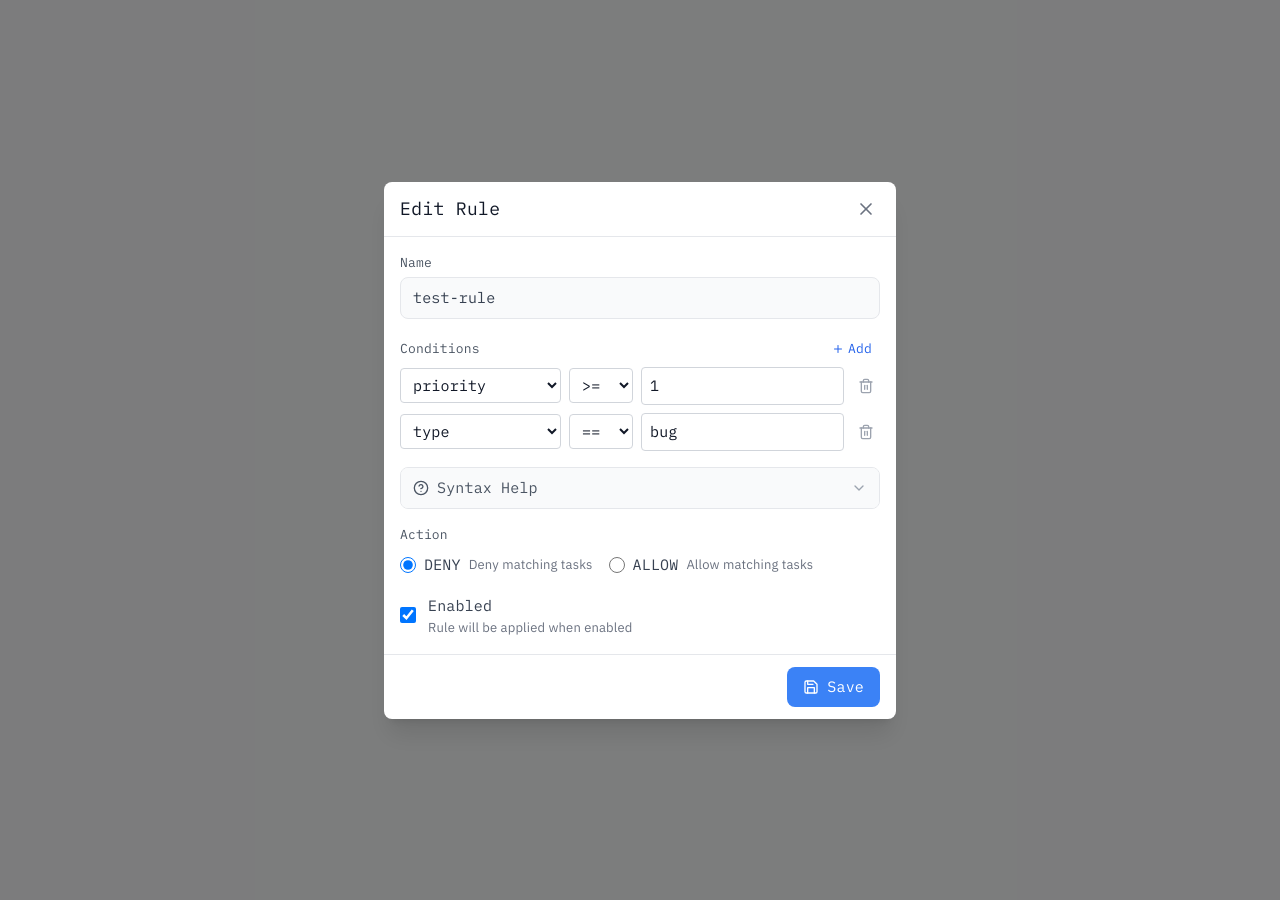
Test case: EditRuleModal › condition add/remove › removes a condition row when clicking remove (with multiple conditions)
This screenshot has width=1280, height=900.
Expected: the number of fields with placeholder "value" is 2, [641, 366, 844, 404]; [641, 412, 844, 450]
Click the first remove button (there should be trash icons)
Click the 1st button titled "remove condition": (866, 386) [852, 372, 880, 400]
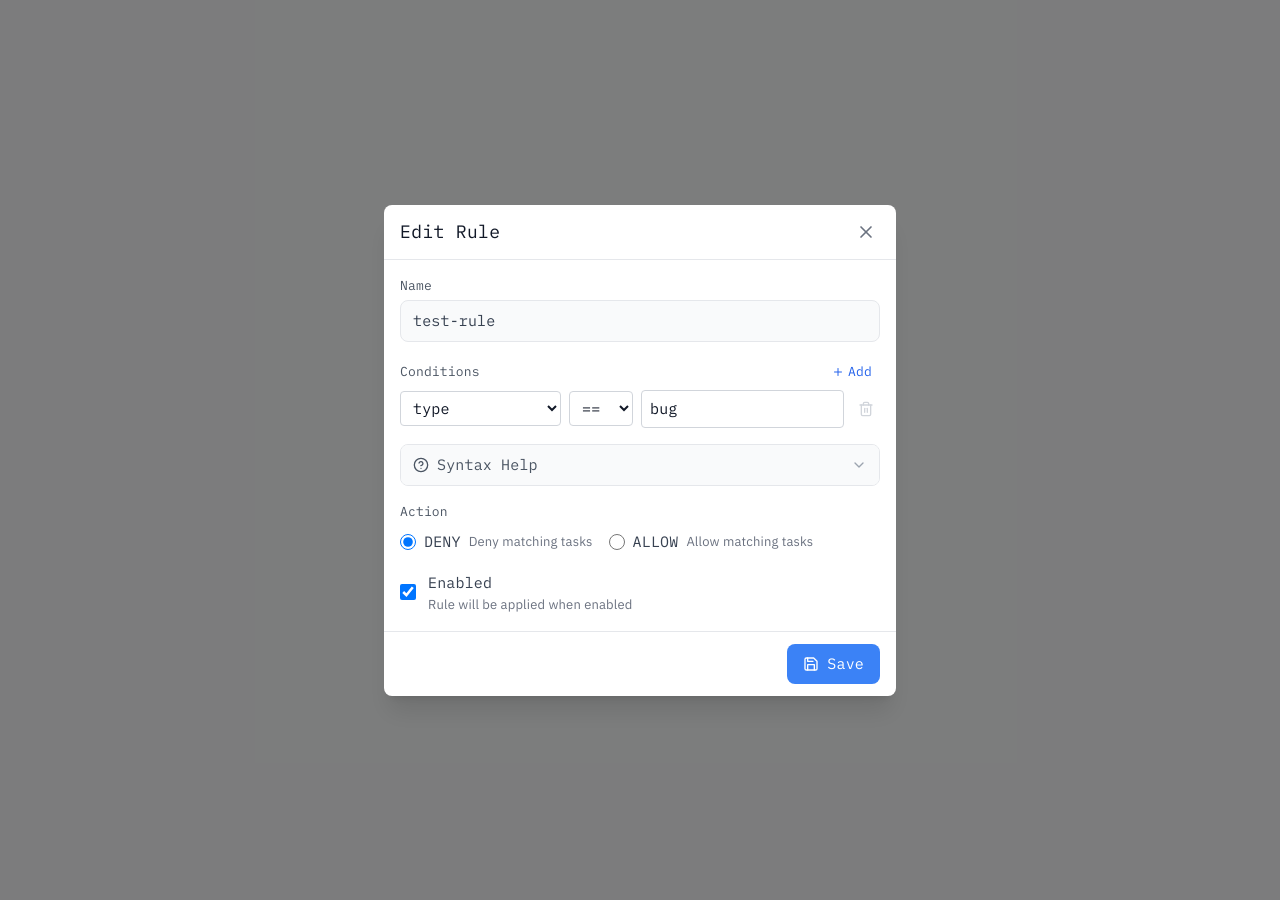
Expected: the number of fields with placeholder "value" is 1, [641, 390, 844, 428]
